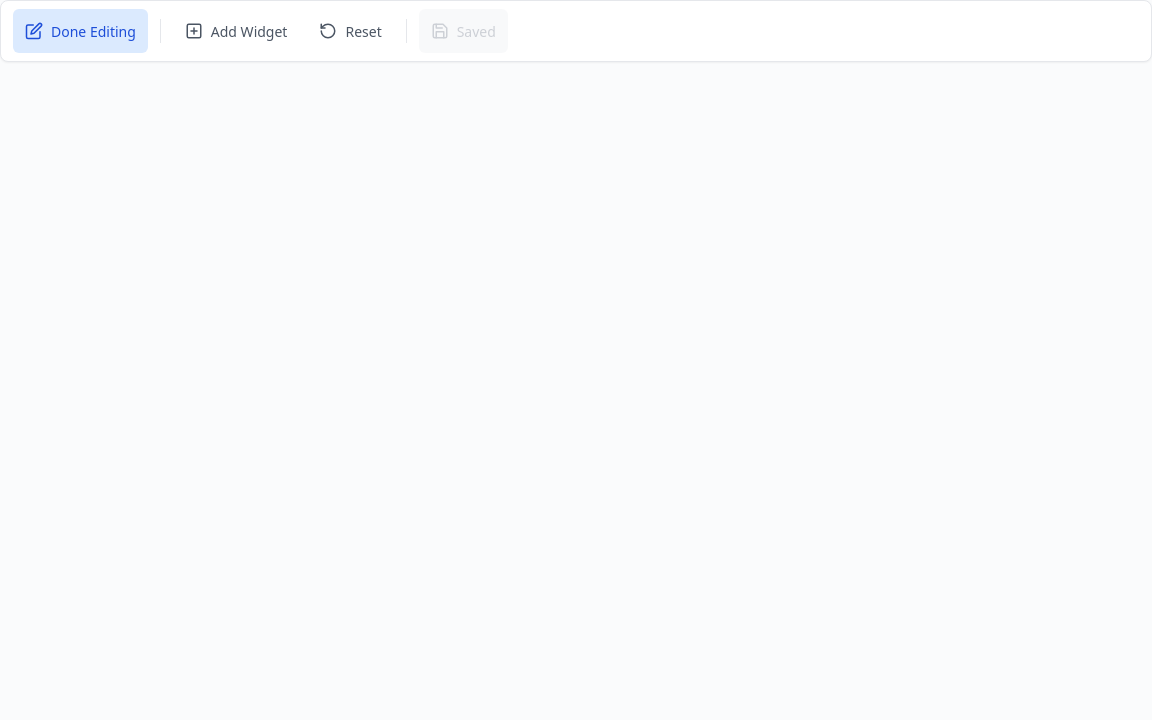
Test: DashboardCustomizer › Reset Layout › shows confirmation dialog when reset is clicked
The width and height of the screenshot is (1152, 720).
Click the button "Reset": (351, 31) [307,9,394,53]
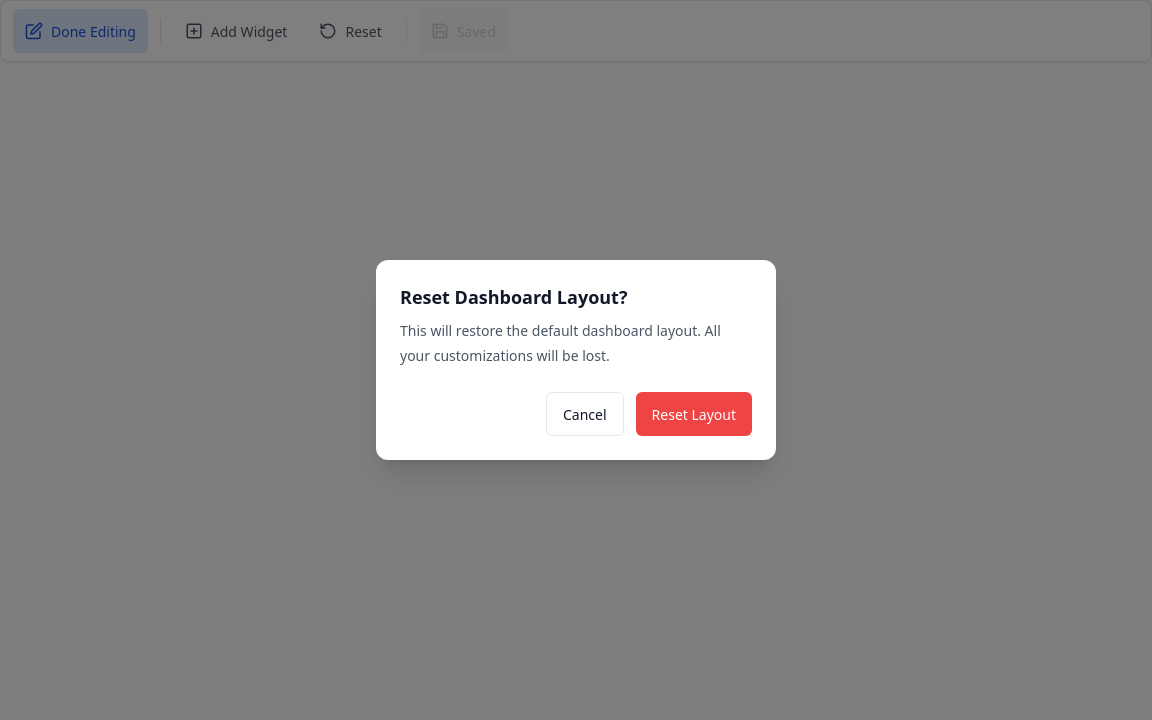
Now the dialog is shown, box [376,260,776,460]
Now the heading "Reset Dashboard Layout?" is shown, box [400,285,628,309]
